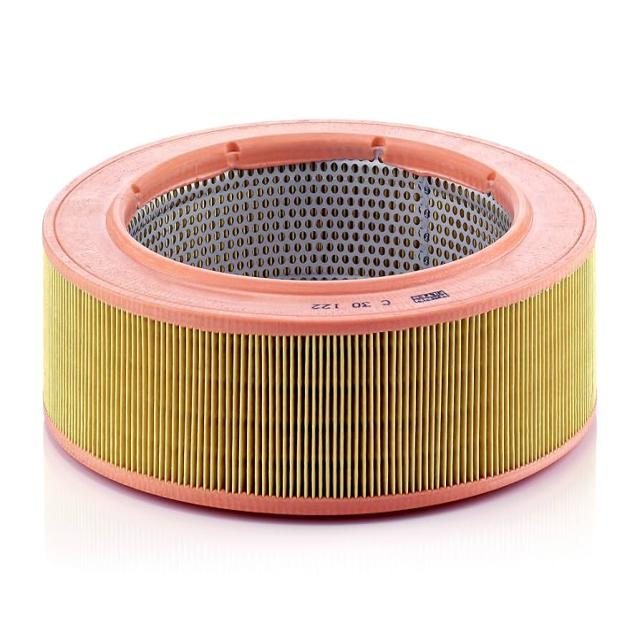air_filter: (44, 113, 598, 520)
